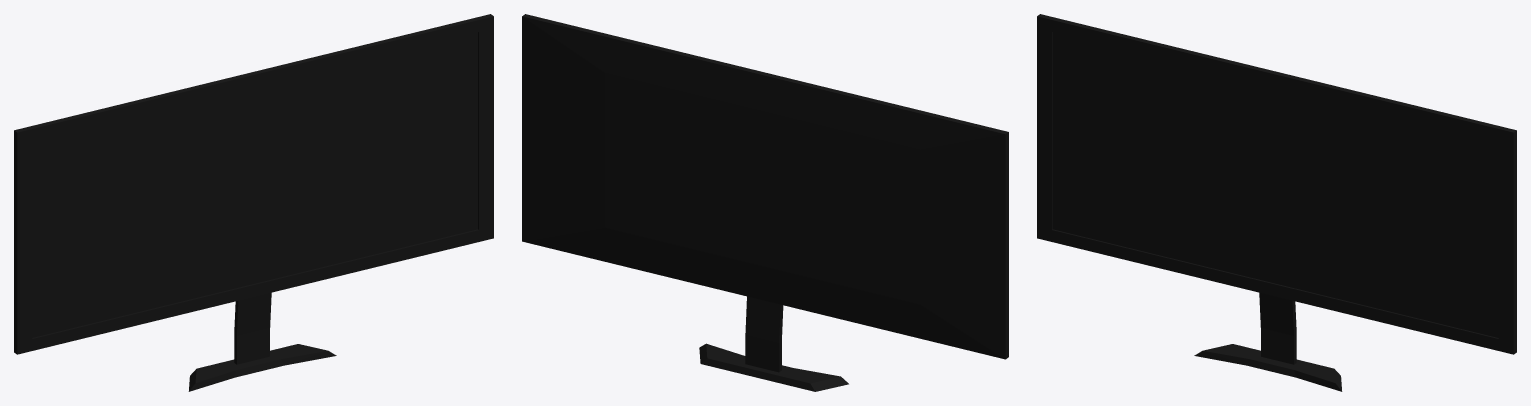
File: Monitor-large.glb
The picture shows the model from 3 angles, left to right: view 1: azimuth 30°, elevation 25°; view 2: azimuth 150°, elevation 25°; view 3: azimuth 330°, elevation 25°; orthographic projection.
Parts seen in each view (by area): view 1: Monitor; view 2: Monitor; view 3: Monitor.
Part boxes in pixels (bbox=[...]): Monitor: bbox=[14, 14, 493, 391]; Monitor: bbox=[522, 14, 1008, 391]; Monitor: bbox=[1037, 14, 1516, 391].
Size of the model in its own units: 1.54 by 0.9104 by 0.0912.
Materials: 1 (1 with a texture image).
